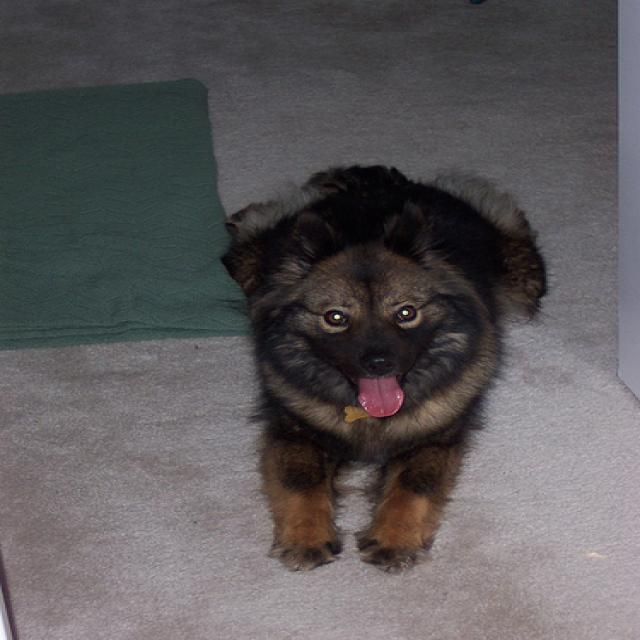dog: (275, 200, 445, 416)
